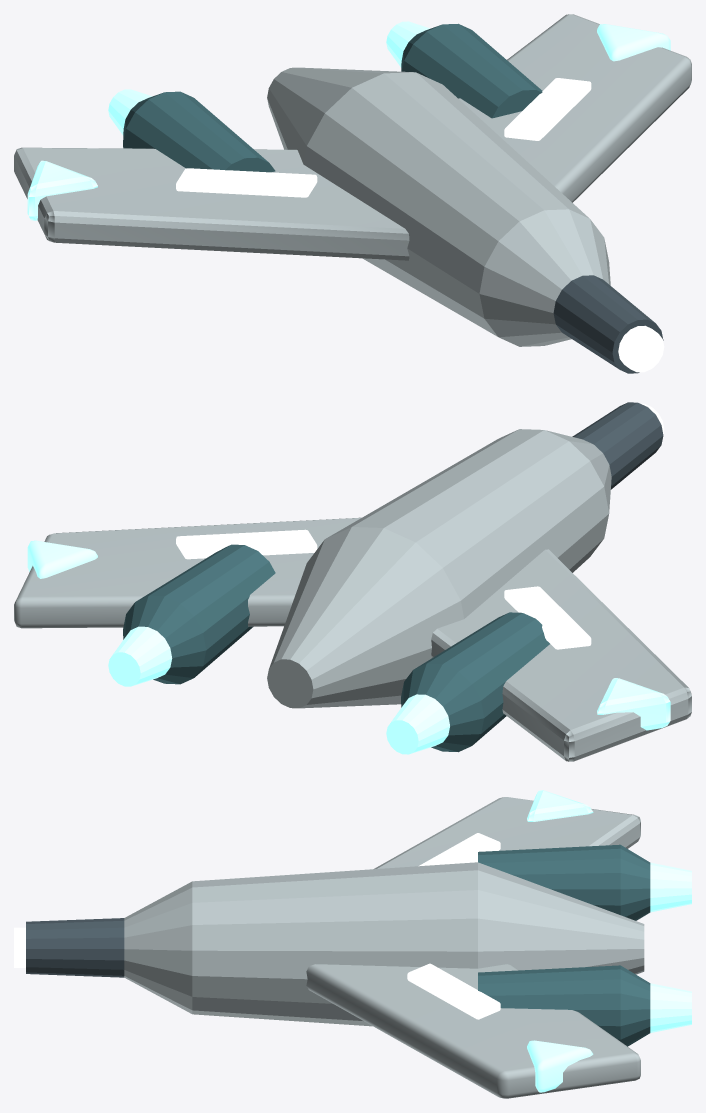
Rendered from drone.glb.
3 renders of one model, top to bottom at view 1: azimuth 30°, elevation 25°; view 2: azimuth 150°, elevation 25°; view 3: azimuth 270°, elevation 25°, orthographic. The views are drawn at different scales.
Parts seen in each view (by area): view 1: drone / body / Brushed silver ceramic, drone / wing / Brushed silver ceramic, drone / body / drone dark structure, drone / generation2 / drone emissive insert, drone / body / Titanium recess, drone / wing / drone identity light, drone / body / drone identity light, drone / body / drone emissive insert; view 2: drone / body / Brushed silver ceramic, drone / wing / Brushed silver ceramic, drone / body / drone dark structure, drone / body / drone identity light, drone / generation2 / drone emissive insert, drone / wing / drone identity light, drone / body / Titanium recess; view 3: drone / body / Brushed silver ceramic, drone / wing / Brushed silver ceramic, drone / body / drone dark structure, drone / body / Titanium recess, drone / generation2 / drone emissive insert, drone / body / drone identity light, drone / wing / drone identity light, drone / body / drone emissive insert.
Boxes of the visible parts, box(x1,y1,x2,y2) form: drone / body / Brushed silver ceramic: box(267, 67, 610, 346); drone / wing / Brushed silver ceramic: box(14, 14, 691, 260); drone / body / drone dark structure: box(123, 23, 542, 172); drone / generation2 / drone emissive insert: box(176, 78, 591, 197); drone / body / Titanium recess: box(553, 275, 663, 373); drone / wing / drone identity light: box(27, 24, 670, 220); drone / body / drone identity light: box(108, 21, 430, 135); drone / body / drone emissive insert: box(618, 325, 664, 372); drone / body / Brushed silver ceramic: box(267, 429, 611, 708); drone / wing / Brushed silver ceramic: box(14, 517, 691, 761); drone / body / drone dark structure: box(123, 544, 549, 752); drone / body / drone identity light: box(108, 626, 449, 754); drone / generation2 / drone emissive insert: box(176, 529, 591, 649); drone / wing / drone identity light: box(27, 540, 670, 730); drone / body / Titanium recess: box(572, 402, 663, 489); drone / body / Brushed silver ceramic: box(124, 862, 644, 1026); drone / wing / Brushed silver ceramic: box(306, 797, 640, 1098); drone / body / drone dark structure: box(478, 844, 650, 1046); drone / body / Titanium recess: box(26, 918, 124, 977); drone / generation2 / drone emissive insert: box(407, 833, 500, 1019); drone / body / drone identity light: box(650, 862, 691, 1032); drone / wing / drone identity light: box(527, 790, 593, 1092); drone / body / drone emissive insert: box(14, 927, 25, 967).
Bounding box in the file's own units: 27.8 × 7.2 × 28.5.
